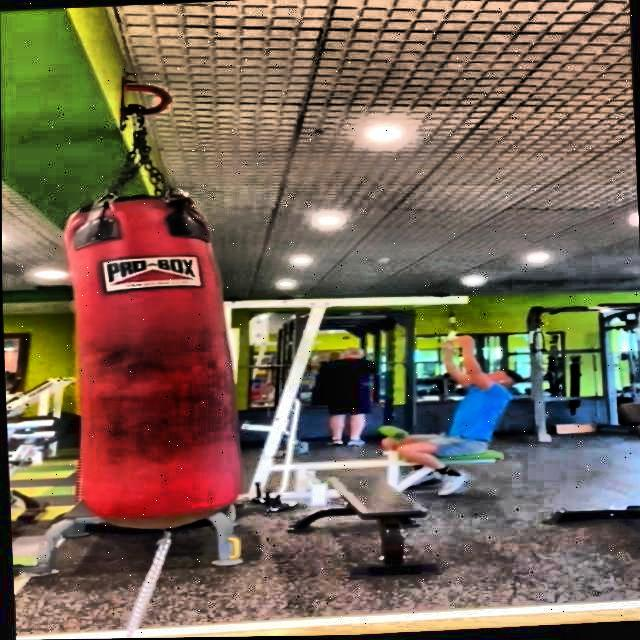boxing-bag: (54, 74, 239, 538)
